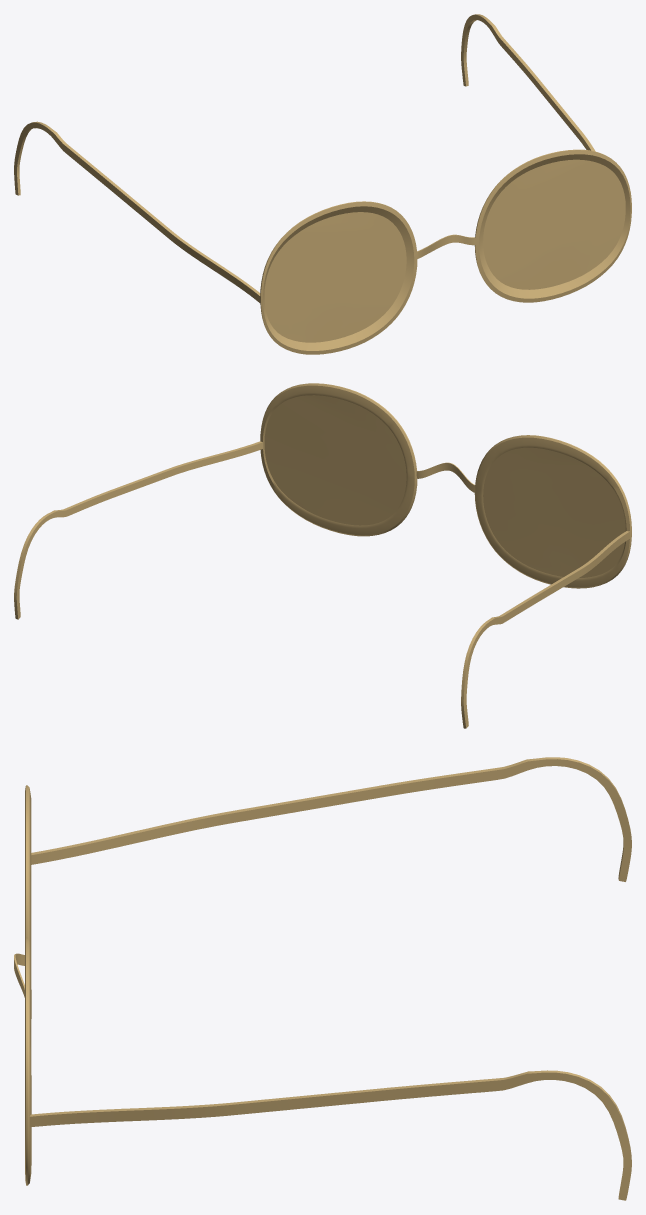
The model's file is glasses_round.glb.
The picture shows the model from 3 angles, top to bottom: view 1: azimuth 30°, elevation 25°; view 2: azimuth 150°, elevation 25°; view 3: azimuth 270°, elevation 25°; orthographic projection. The views are drawn at different scales.
Parts seen in each view (by area): view 1: GlassesRound; view 2: GlassesRound; view 3: GlassesRound.
Boxes of the visible parts, x1,y1,x2,y2 form: GlassesRound: [14, 14, 631, 354]; GlassesRound: [14, 383, 631, 728]; GlassesRound: [14, 757, 631, 1200].
Bounding box in the file's own units: 0.1502 × 0.0466 × 0.1221.
